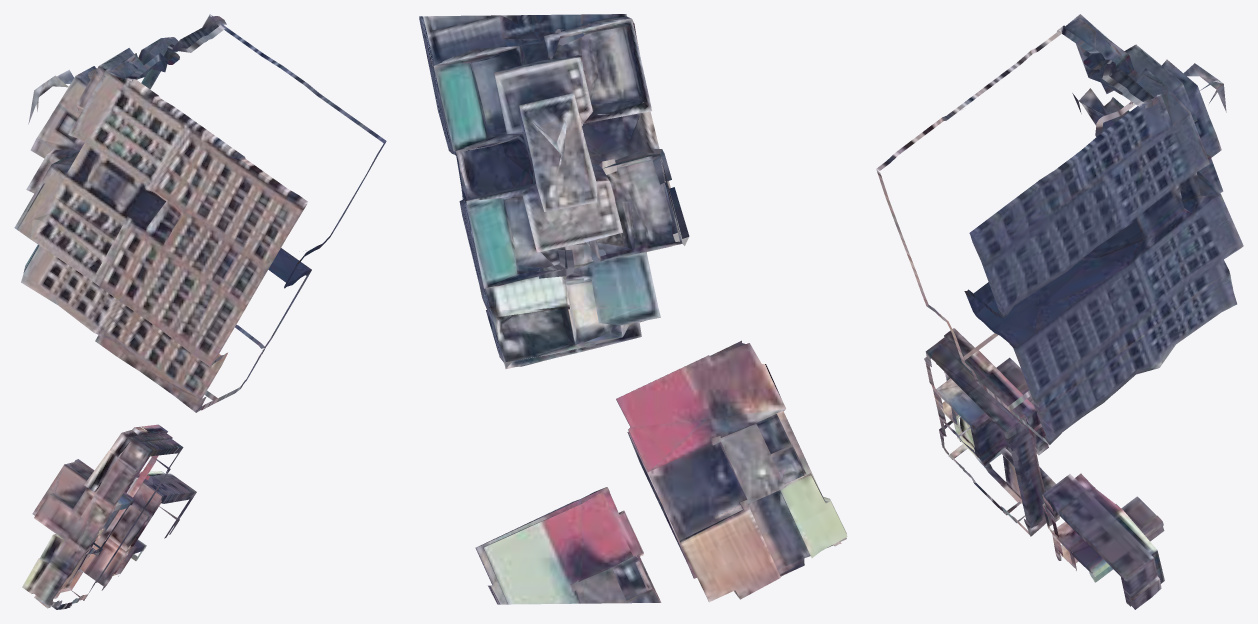
3 views of the same model, side by side, from view 1: azimuth 30°, elevation 25°; view 2: azimuth 150°, elevation 25°; view 3: azimuth 270°, elevation 25° (orthographic). The views are drawn at different scales.
Size of the model in its own units: 63.74 by 84.92 by 51.09.
Materials: 2 (2 with a texture image).
